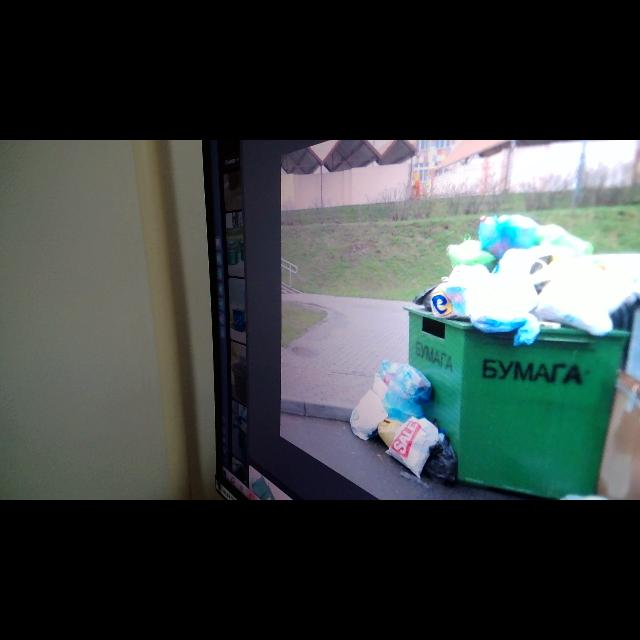Trash_Can_Full: (403, 214, 631, 500)
